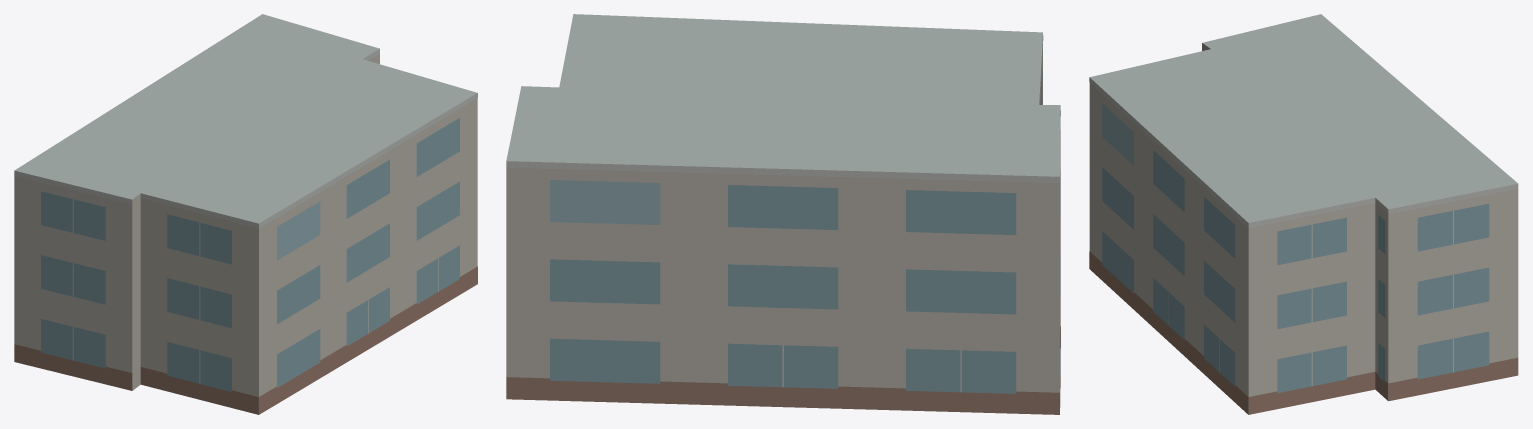
Rendered from survey-upis-33004402.glb.
3 views of the same model, side by side, from view 1: azimuth 30°, elevation 25°; view 2: azimuth 150°, elevation 25°; view 3: azimuth 270°, elevation 25° (orthographic). The views are drawn at different scales.
Parts seen in each view (by area): view 1: survey-upis-33004402.tmp; view 2: survey-upis-33004402.tmp; view 3: survey-upis-33004402.tmp.
Boxes of the visible parts, left/top/right/bottom form: survey-upis-33004402.tmp: left=14, top=14, right=477, bottom=414; survey-upis-33004402.tmp: left=506, top=14, right=1060, bottom=414; survey-upis-33004402.tmp: left=1089, top=14, right=1518, bottom=414.
Size of the model in its own units: 21.39 by 9.15 by 18.55.
